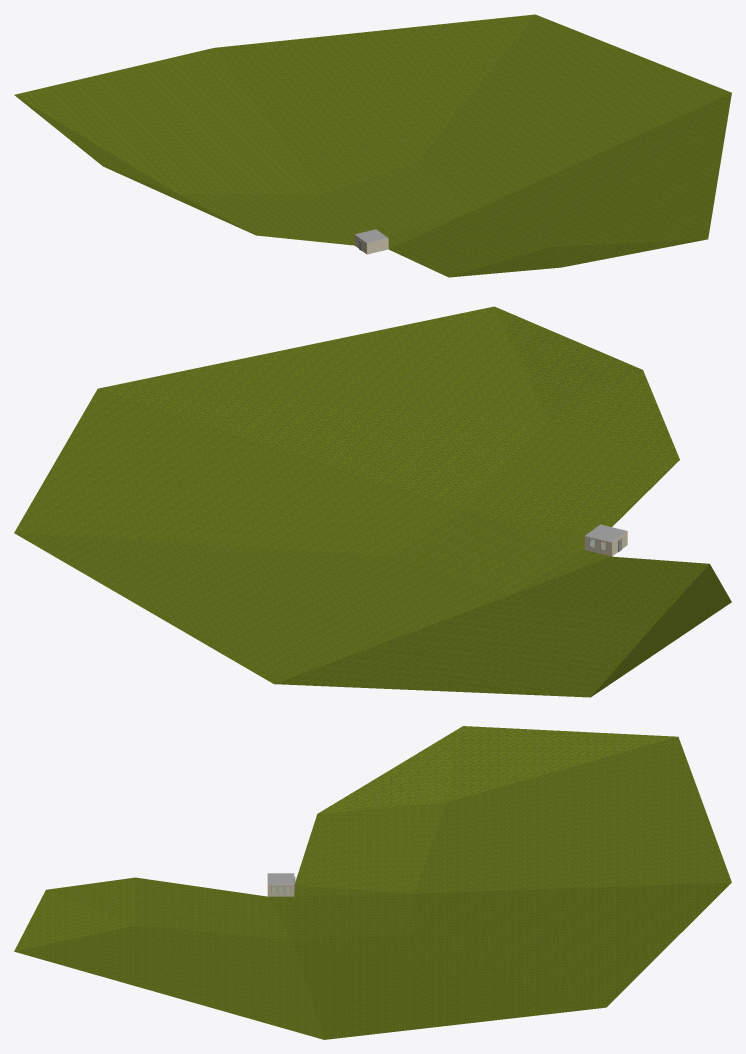
3 renders of one model, top to bottom at view 1: azimuth 30°, elevation 25°; view 2: azimuth 150°, elevation 25°; view 3: azimuth 270°, elevation 25°, orthographic. The views are drawn at different scales.
Parts seen in each view (by area): view 1: room_Cube; view 2: room_Cube; view 3: room_Cube.
Boxes of the visible parts, x1=… form: room_Cube: x1=14, y1=14, x2=731, y2=277; room_Cube: x1=14, y1=306, x2=731, y2=697; room_Cube: x1=14, y1=726, x2=731, y2=1039.
Bounding box in the file's own units: 131 × 14.17 × 134.
